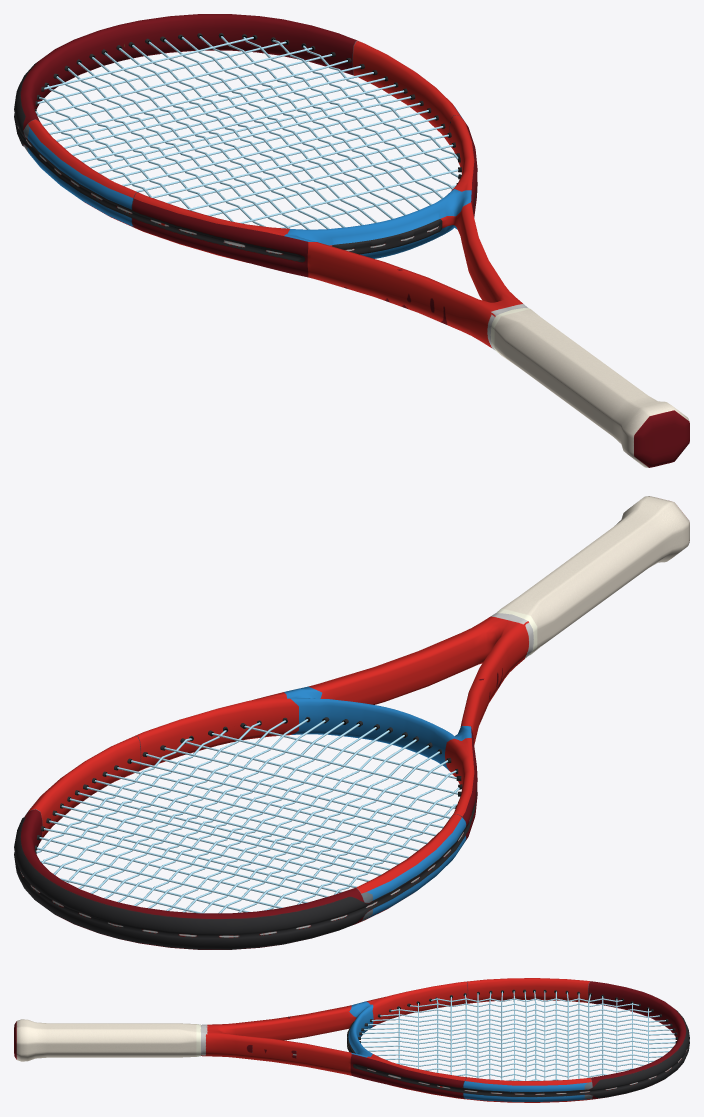
File: TennisRacket.glb
The picture shows the model from 3 angles, top to bottom: view 1: azimuth 30°, elevation 25°; view 2: azimuth 150°, elevation 25°; view 3: azimuth 270°, elevation 25°; orthographic projection. The views are drawn at different scales.
Parts seen in each view (by area): view 1: tennis racquet; view 2: tennis racquet; view 3: tennis racquet.
Part boxes in pixels (x1,y1,x2,y2): tennis racquet: [14, 14, 689, 467]; tennis racquet: [14, 496, 689, 949]; tennis racquet: [14, 978, 689, 1102].
Bounding box in the file's own units: 3.37 × 0.4979 × 8.87.
Materials: 3 (1 with a texture image).
